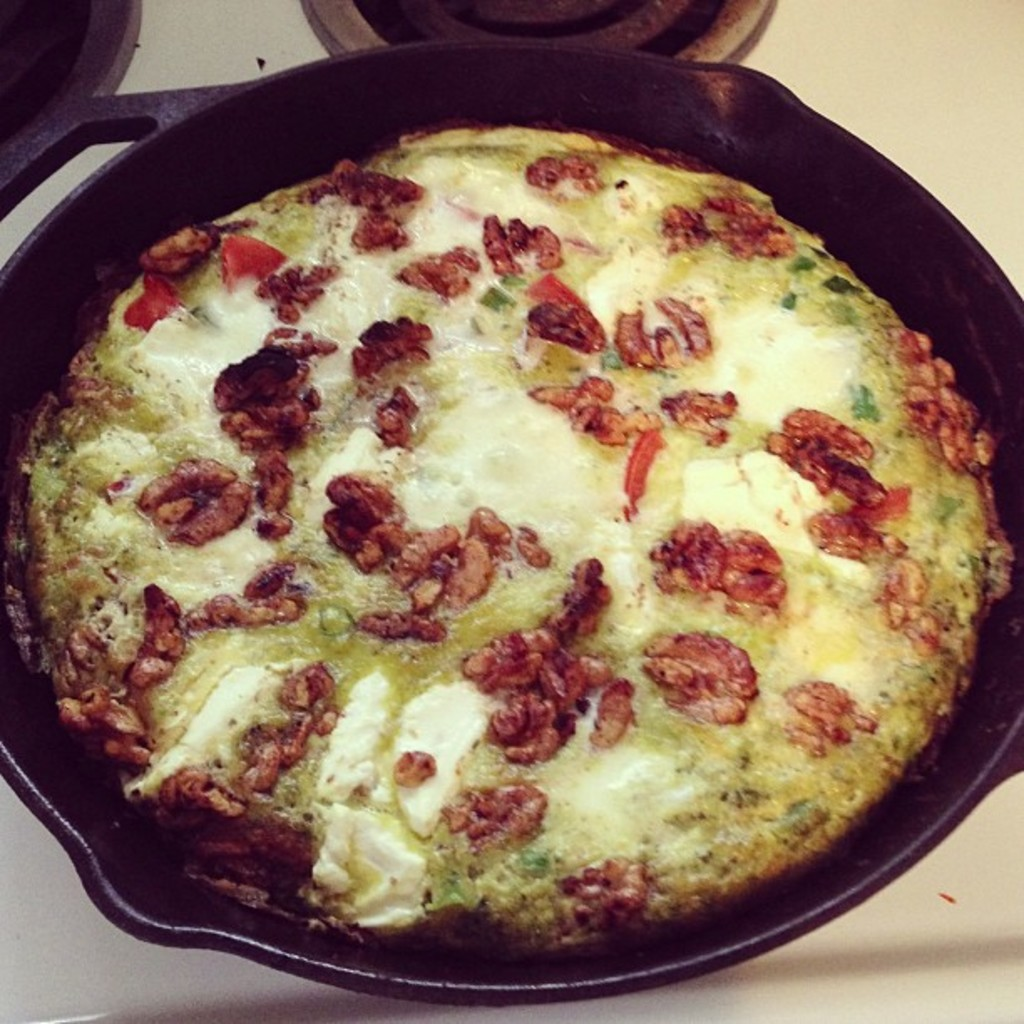Pizza: (0, 112, 1008, 977)
